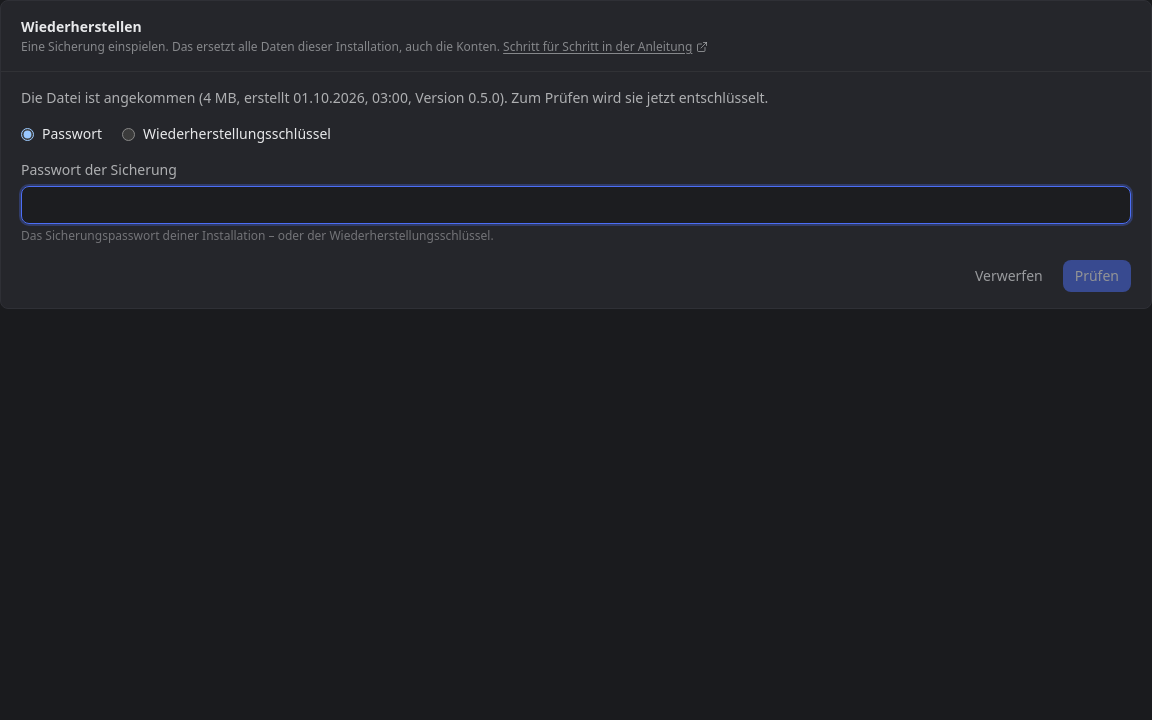
Scenario: Karte Wiederherstellen: Ablauf › Sicherungspasswort-Datei: Wiederherstellungsschlüssel als zweite Möglichkeit
The width and height of the screenshot is (1152, 720).
Click the radio button labelled "Wiederherstellungsschlüssel": (128, 134) top-left (122, 128), bottom-right (135, 140)
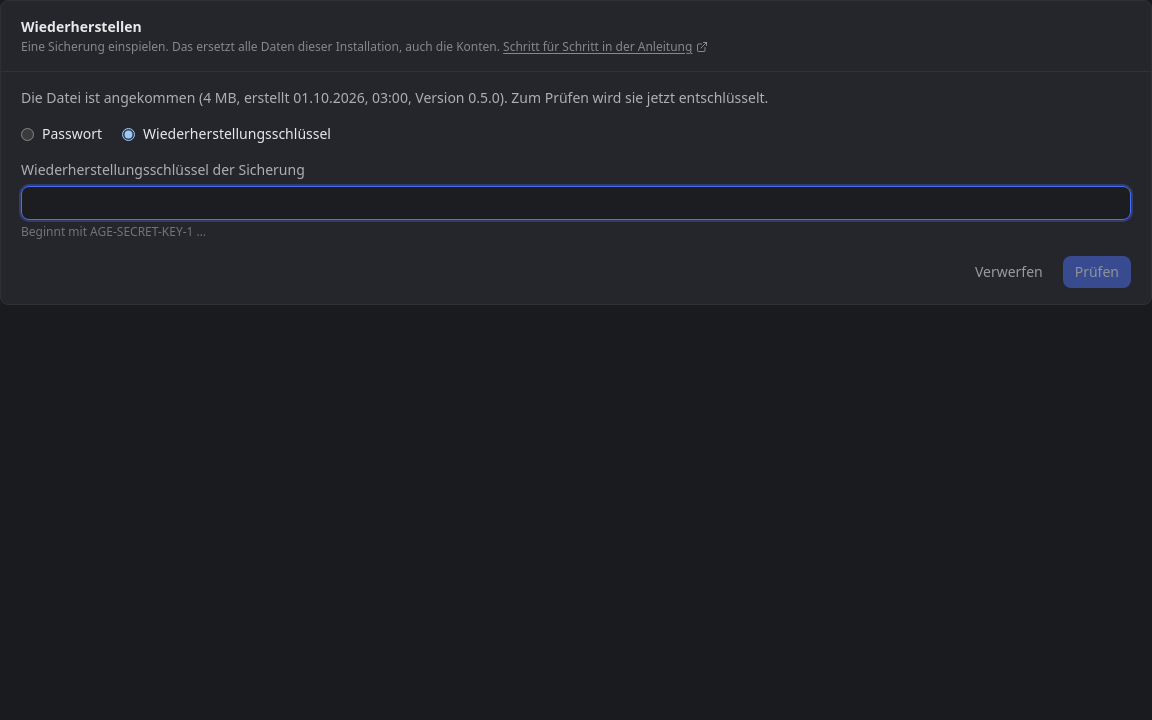
Expected: the text "Beginnt mit AGE-SECRET-KEY-1 …" is shown, top-left (21, 223), bottom-right (206, 240)
In the password field labelled "Wiederherstellungsschlüssel der Sicherung": (576, 203) top-left (21, 186), bottom-right (1131, 220), type "AGE-SECRET-KEY-1ABC"
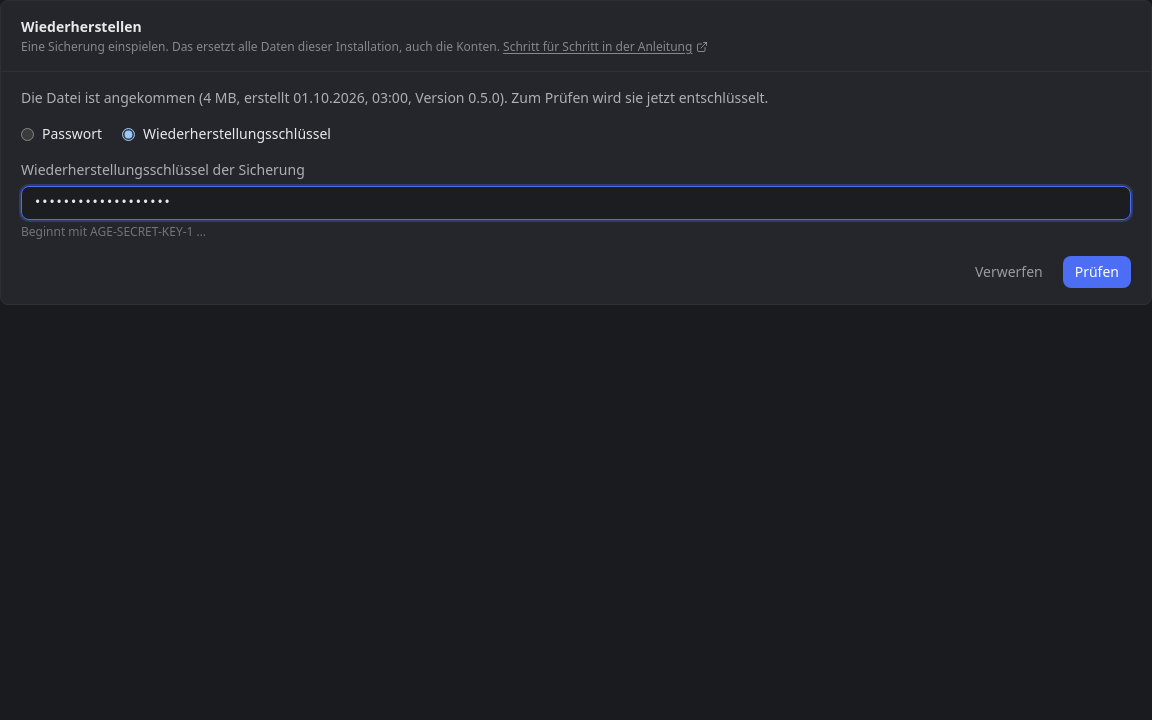
Click the button "Prüfen": (1097, 272) top-left (1063, 256), bottom-right (1131, 288)
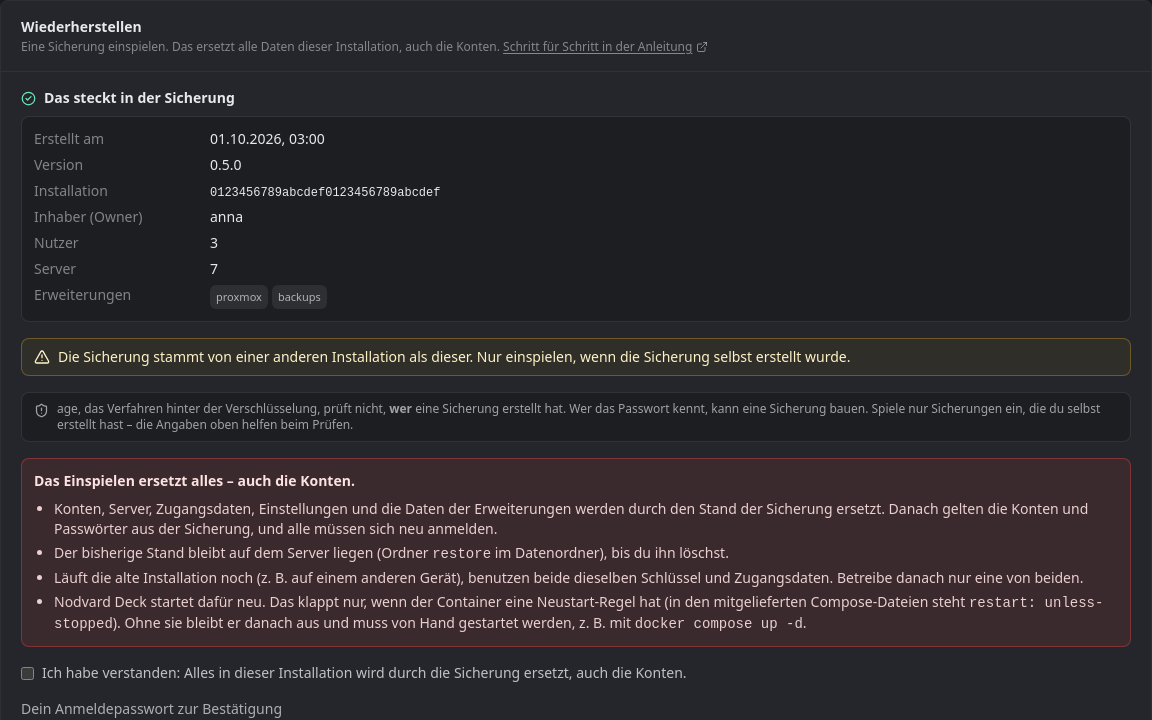
Expected: the heading "Das steckt in der Sicherung" is shown, top-left (21, 88), bottom-right (235, 107)
